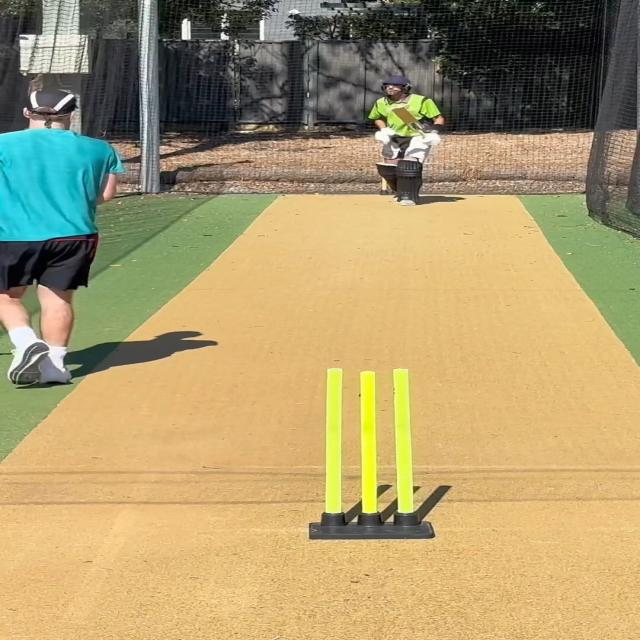stump: (305, 365, 441, 542)
